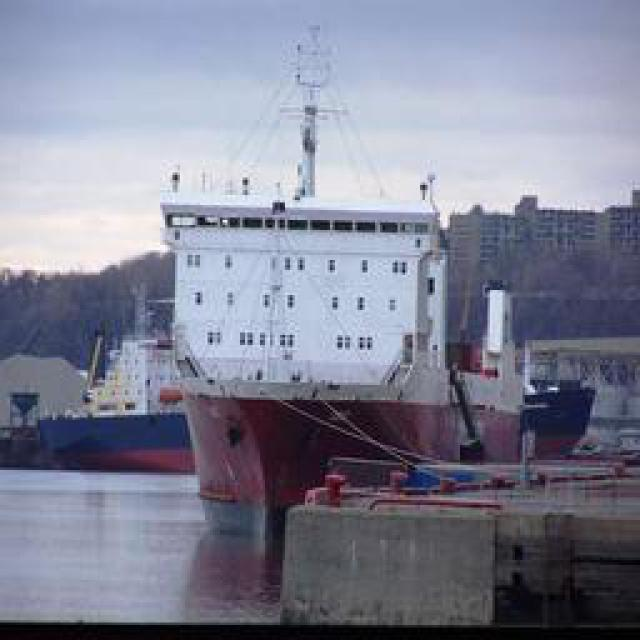Ship: (164, 27, 594, 517)
